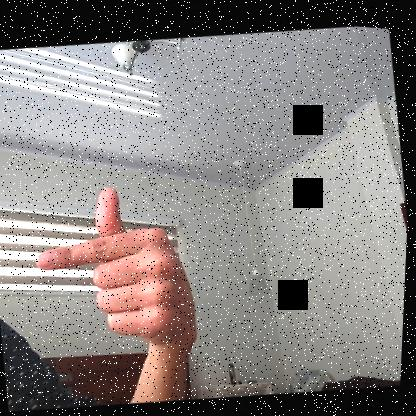T: (24, 167, 209, 372)
